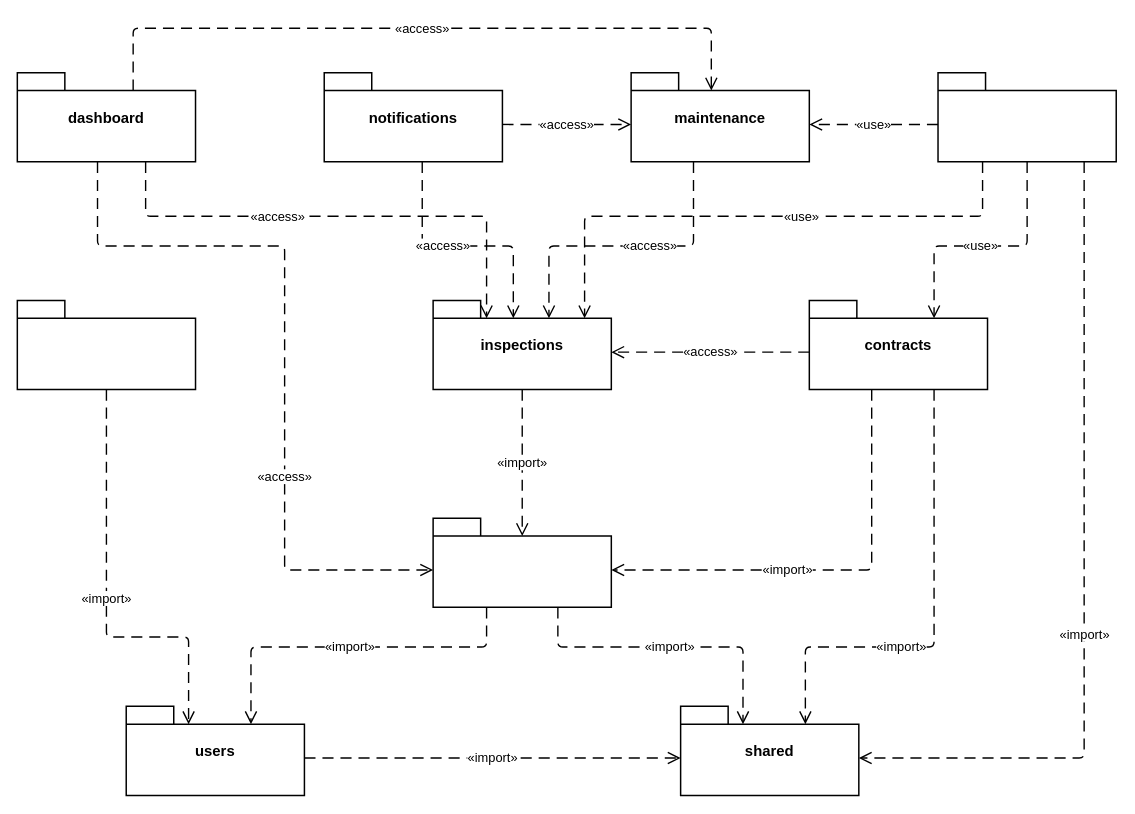
Some shapes in this 1135 by 814 pixel diagram are drawn without their labels. Here are the shapes that lost their labels. From the top down, the centre of each, then its label:
(x=1027, y=117): infrastructure
(x=106, y=344): workforce
(x=522, y=562): assets
